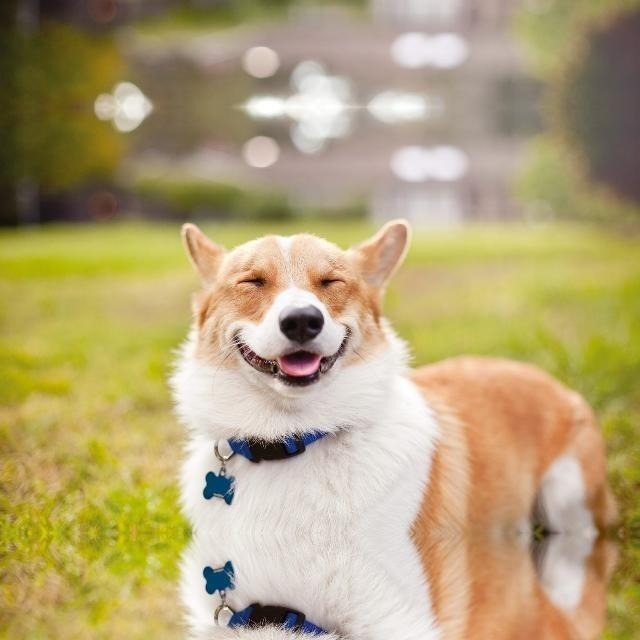dog: (158, 189, 420, 443), (159, 0, 420, 23), (159, 623, 420, 640)
